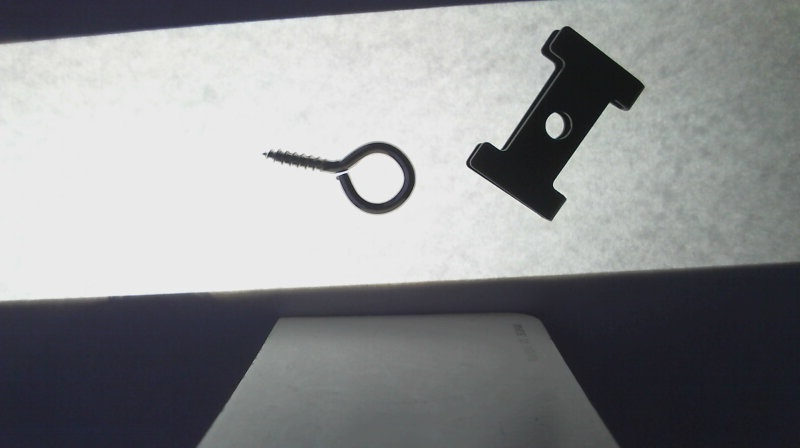O001: (259, 140, 418, 216)
O002: (465, 24, 648, 222)
